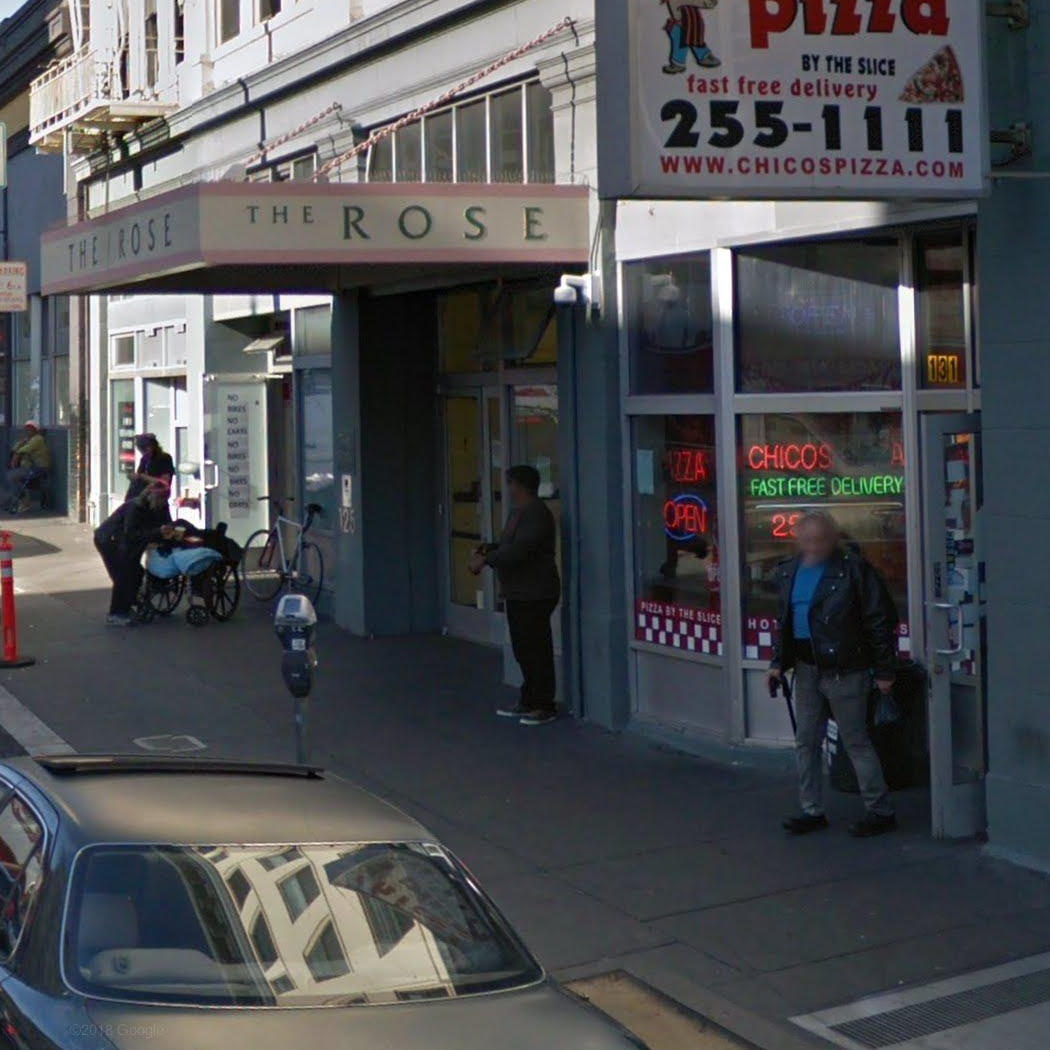No Parking: (0, 261, 29, 313)
